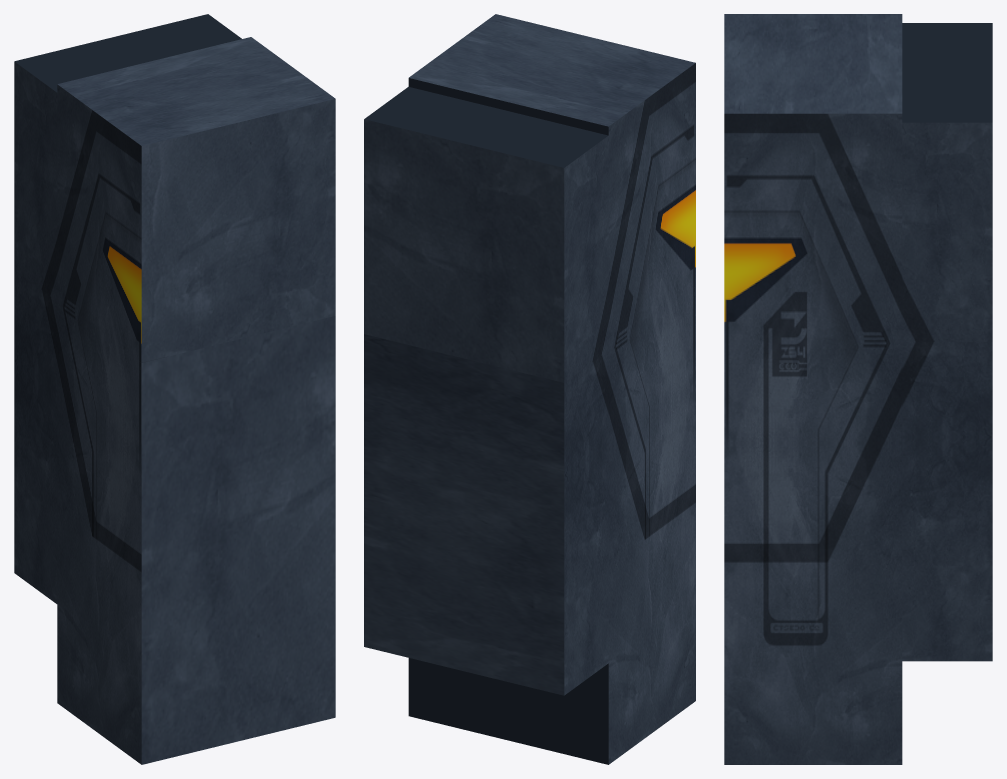
Rendered from clu_door_left.obj.
3 views of the same model, side by side, from view 1: azimuth 30°, elevation 25°; view 2: azimuth 150°, elevation 25°; view 3: azimuth 270°, elevation 25° (orthographic). The views are drawn at different scales.
Visible parts, largest first — view 1: leftbottom, lefttop, lefttop2, leftbottom2; view 2: leftbottom2, lefttop2, leftbottom, lefttop; view 3: leftbottom, lefttop, leftbottom2, lefttop2.
Part boxes in pixels (x1,y1,x2,y2): leftbottom: (57,301,335,764); lefttop: (57,37,335,362); lefttop2: (14,14,241,300); leftbottom2: (14,270,57,603); leftbottom2: (364,334,608,695); lefttop2: (364,86,608,382); leftbottom: (408,287,695,764); lefttop: (408,14,695,349); leftbottom: (724,342,902,764); lefttop: (724,14,902,341); leftbottom2: (902,342,992,661); lefttop2: (902,23,992,341).
Bounding box in the file's own units: 1.38 × 4.22 × 1.58.
